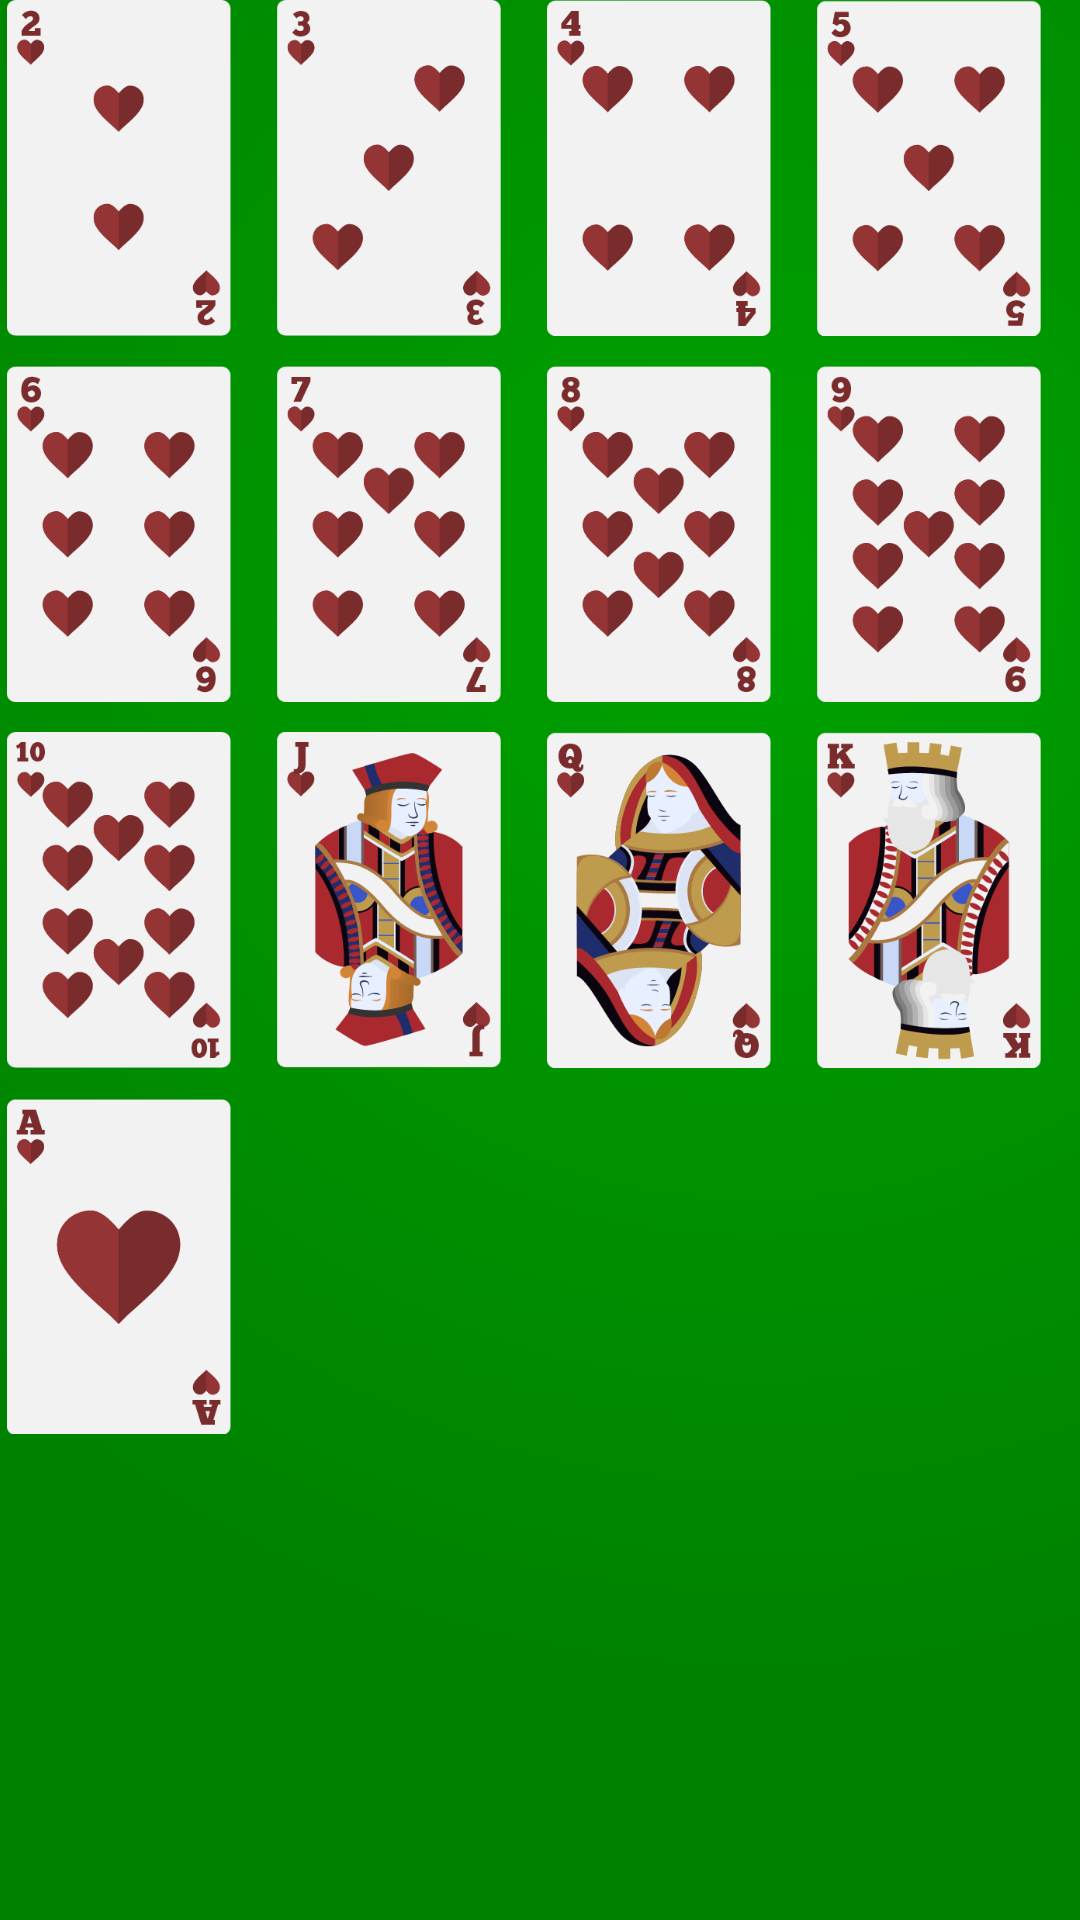

Named icons in this screenshot (1080×1920) and their bounding boxes, (x1, y1, x2, y2):
hearts ace: (7, 1099, 231, 1434)
hearts jack: (277, 732, 501, 1068)
hearts king: (817, 732, 1041, 1068)
hearts queen: (547, 732, 771, 1068)
